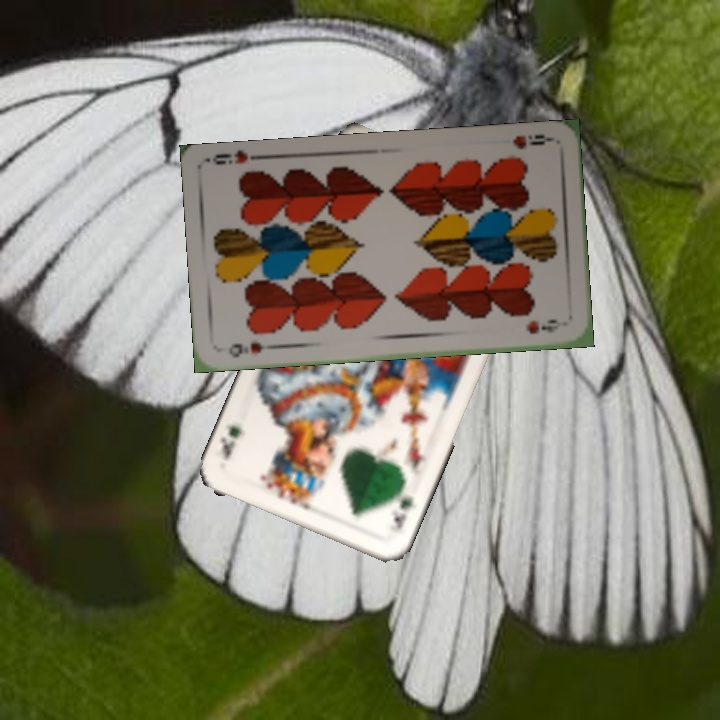GK: (385, 481, 417, 534)
H9: (224, 338, 277, 360), (509, 130, 554, 152)
